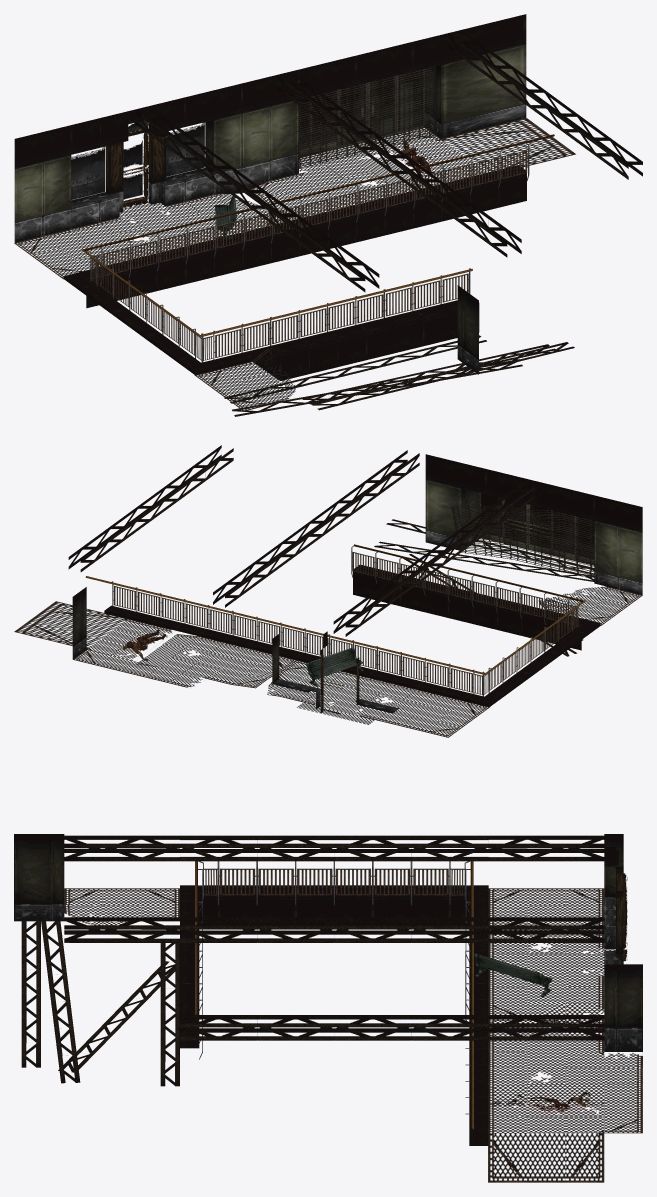
Rendered from SPU03FD.glb.
The picture shows the model from 3 angles, top to bottom: view 1: azimuth 30°, elevation 25°; view 2: azimuth 150°, elevation 25°; view 3: azimuth 270°, elevation 25°; orthographic projection. The views are drawn at different scales.
Parts seen in each view (by area): view 1: M405_m0, M403_m0, 401_1_NE_m0, 403F1_BA_m0, 4SHT_NEA_m0, 405F1_BA_m0, M402_m0, FENCE_HI_m0, 401_2_NE_m0, 401_22_B_m0, 401_22_B#2_m0, 401_22_B#1_m0 (+24 smaller); view 2: M402_m0, 401_1_NE_m0, 403F1_BA_m0, 402SHT_N_m0, 405F1_BA_m0, FENCE_HI_m0, 401_2_NE_m0, 401RA06_#2_m0, 404RA1_B#1_m0, 401RA06__m0, 404RA1_B_m0, 401RA06_#3_m0 (+19 smaller); view 3: 403F1_BA_m0, 405F1_BA_m0, M402_m0, FENCE_HI_m0, 401_1_NE_m0, 401_2_NE_m0, IRON3_HI_m0, IRON3_HI#2_m0, IRON3_HI#1_m0, M405_m0, 401RA06_#1_m0, IRON3REV#2_m0 (+24 smaller).
Boxes of the visible parts, <box> form: M405_m0: <box>242,14,526,192</box>; M403_m0: <box>14,83,242,242</box>; 401_1_NE_m0: <box>129,300,479,380</box>; 403F1_BA_m0: <box>14,192,282,279</box>; 4SHT_NEA_m0: <box>299,66,435,168</box>; 405F1_BA_m0: <box>299,118,575,185</box>; M402_m0: <box>194,285,478,411</box>; FENCE_HI_m0: <box>244,157,424,220</box>; 401_2_NE_m0: <box>63,248,185,326</box>; 401_22_B_m0: <box>179,222,299,283</box>; 401_22_B#2_m0: <box>291,193,413,256</box>; 401_22_B#1_m0: <box>407,165,526,228</box>; M402_m0: <box>425,454,642,625</box>; 401_1_NE_m0: <box>353,565,600,665</box>; 403F1_BA_m0: <box>267,660,489,737</box>; 402SHT_N_m0: <box>451,505,594,579</box>; 405F1_BA_m0: <box>14,601,202,687</box>; FENCE_HI_m0: <box>136,634,296,688</box>; 401_2_NE_m0: <box>393,661,545,706</box>; 401RA06_#2_m0: <box>471,575,570,630</box>; 404RA1_B#1_m0: <box>112,581,208,627</box>; 401RA06__m0: <box>376,646,474,693</box>; 404RA1_B_m0: <box>208,605,304,651</box>; 401RA06_#3_m0: <box>351,546,450,601</box>; 403F1_BA_m0: <box>488,888,615,1023</box>; 405F1_BA_m0: <box>488,1052,642,1182</box>; M402_m0: <box>14,834,179,925</box>; FENCE_HI_m0: <box>488,1019,604,1105</box>; 401_1_NE_m0: <box>180,885,334,1048</box>; 401_2_NE_m0: <box>334,885,488,950</box>; IRON3_HI_m0: <box>180,843,488,861</box>; IRON3_HI#2_m0: <box>180,925,488,942</box>; IRON3_HI#1_m0: <box>180,1023,488,1040</box>; M405_m0: <box>604,964,642,1051</box>; 401RA06_#1_m0: <box>217,861,373,905</box>; IRON3REV#2_m0: <box>180,917,488,934</box>.
Size of the model in its own units: 18.04 by 5.02 by 16.3.
24 materials, 24 textured.
